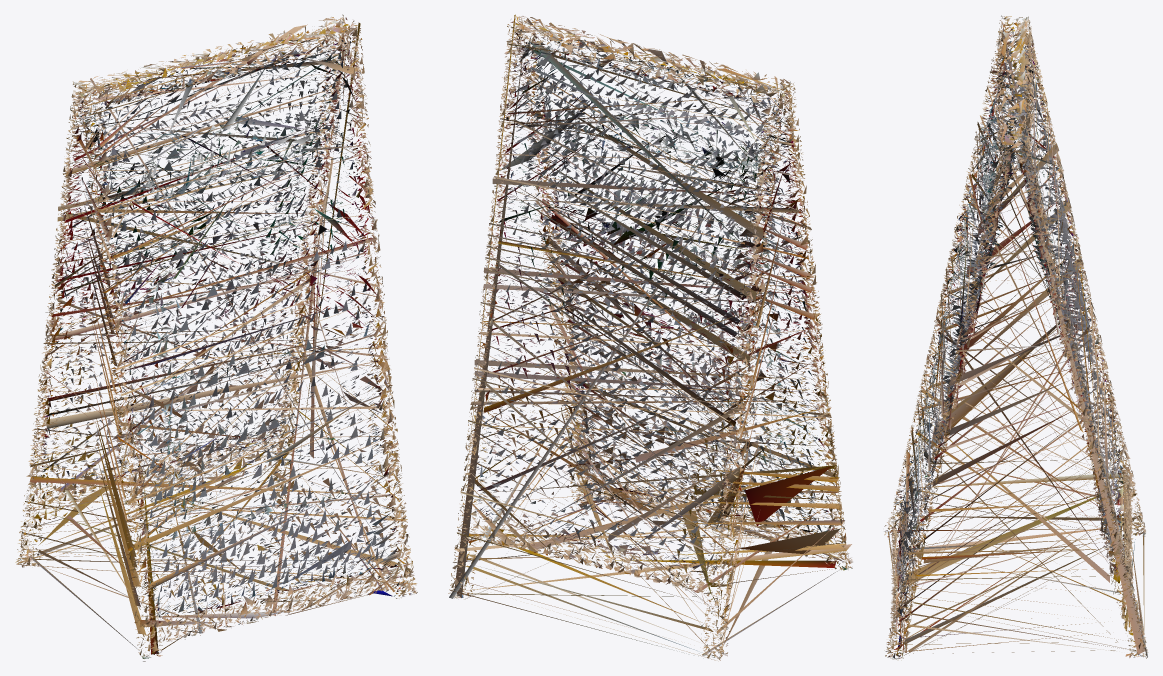
File: a_coffee_menu_board.glb
3 views of the same model, side by side, from view 1: azimuth 30°, elevation 25°; view 2: azimuth 150°, elevation 25°; view 3: azimuth 270°, elevation 25° (orthographic). The views are drawn at different scales.
Parts seen in each view (by area): view 1: Ref; view 2: Ref; view 3: Ref.
Part boxes in pixels (bbox=[...]): Ref: bbox=[15, 14, 417, 661]; Ref: bbox=[448, 14, 853, 660]; Ref: bbox=[884, 15, 1148, 659].
Bounding box in the file's own units: 1.01 × 1.82 × 0.8477.
